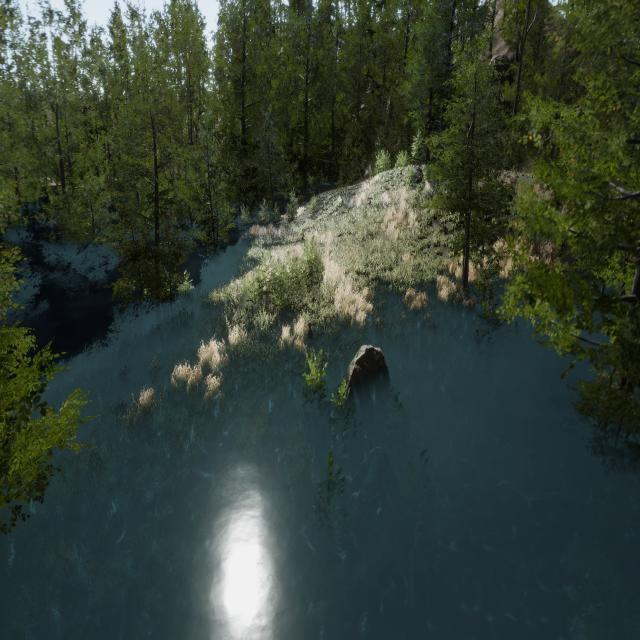Human: (302, 311, 318, 357)
